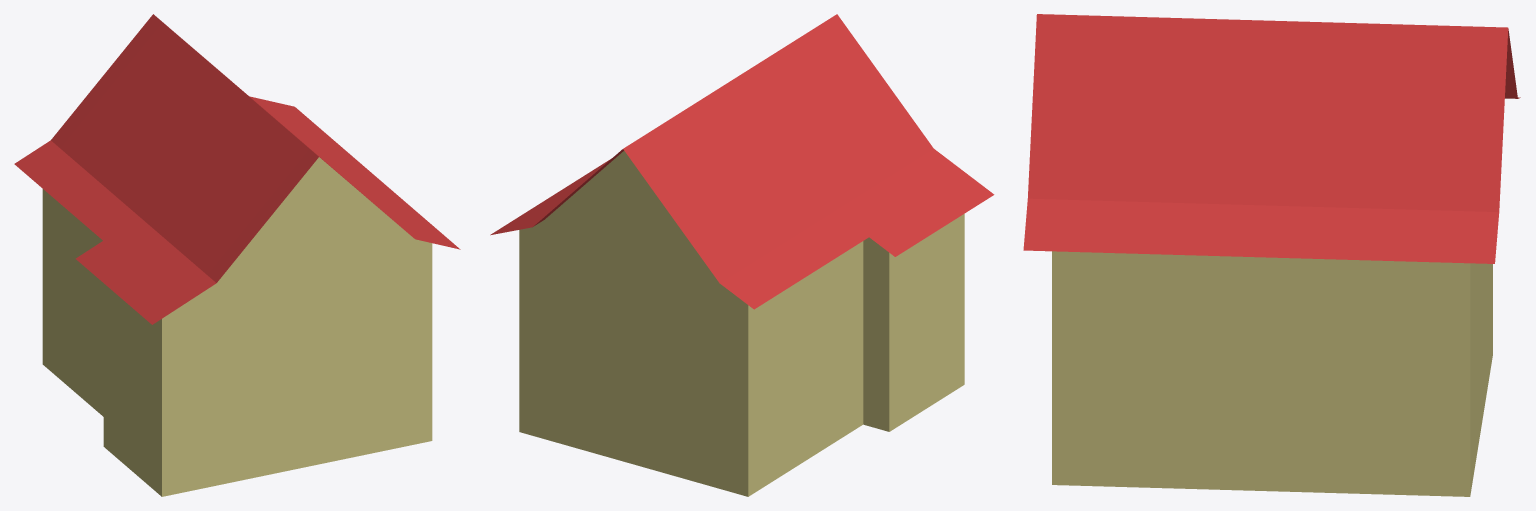
3 views of the same model, side by side, from view 1: azimuth 30°, elevation 25°; view 2: azimuth 150°, elevation 25°; view 3: azimuth 270°, elevation 25° (orthographic). The views are drawn at different scales.
Size of the model in its own units: 13 by 14.02 by 12.36.
